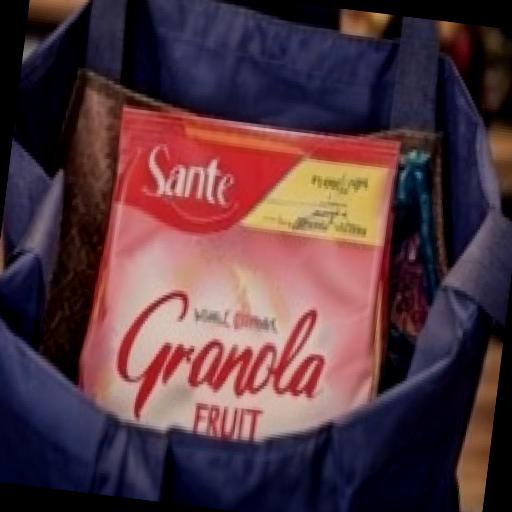granola: (23, 67, 448, 492)
